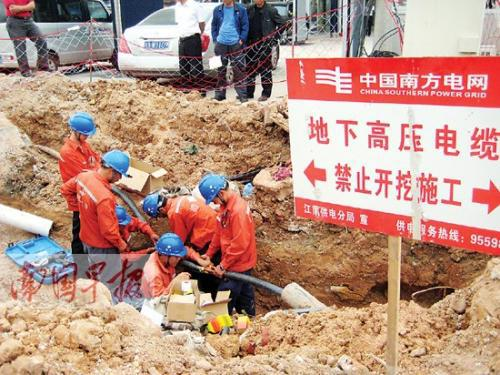helmet: (197, 175, 237, 208), (155, 232, 185, 268), (101, 148, 133, 181), (65, 108, 96, 142), (143, 192, 173, 218)
